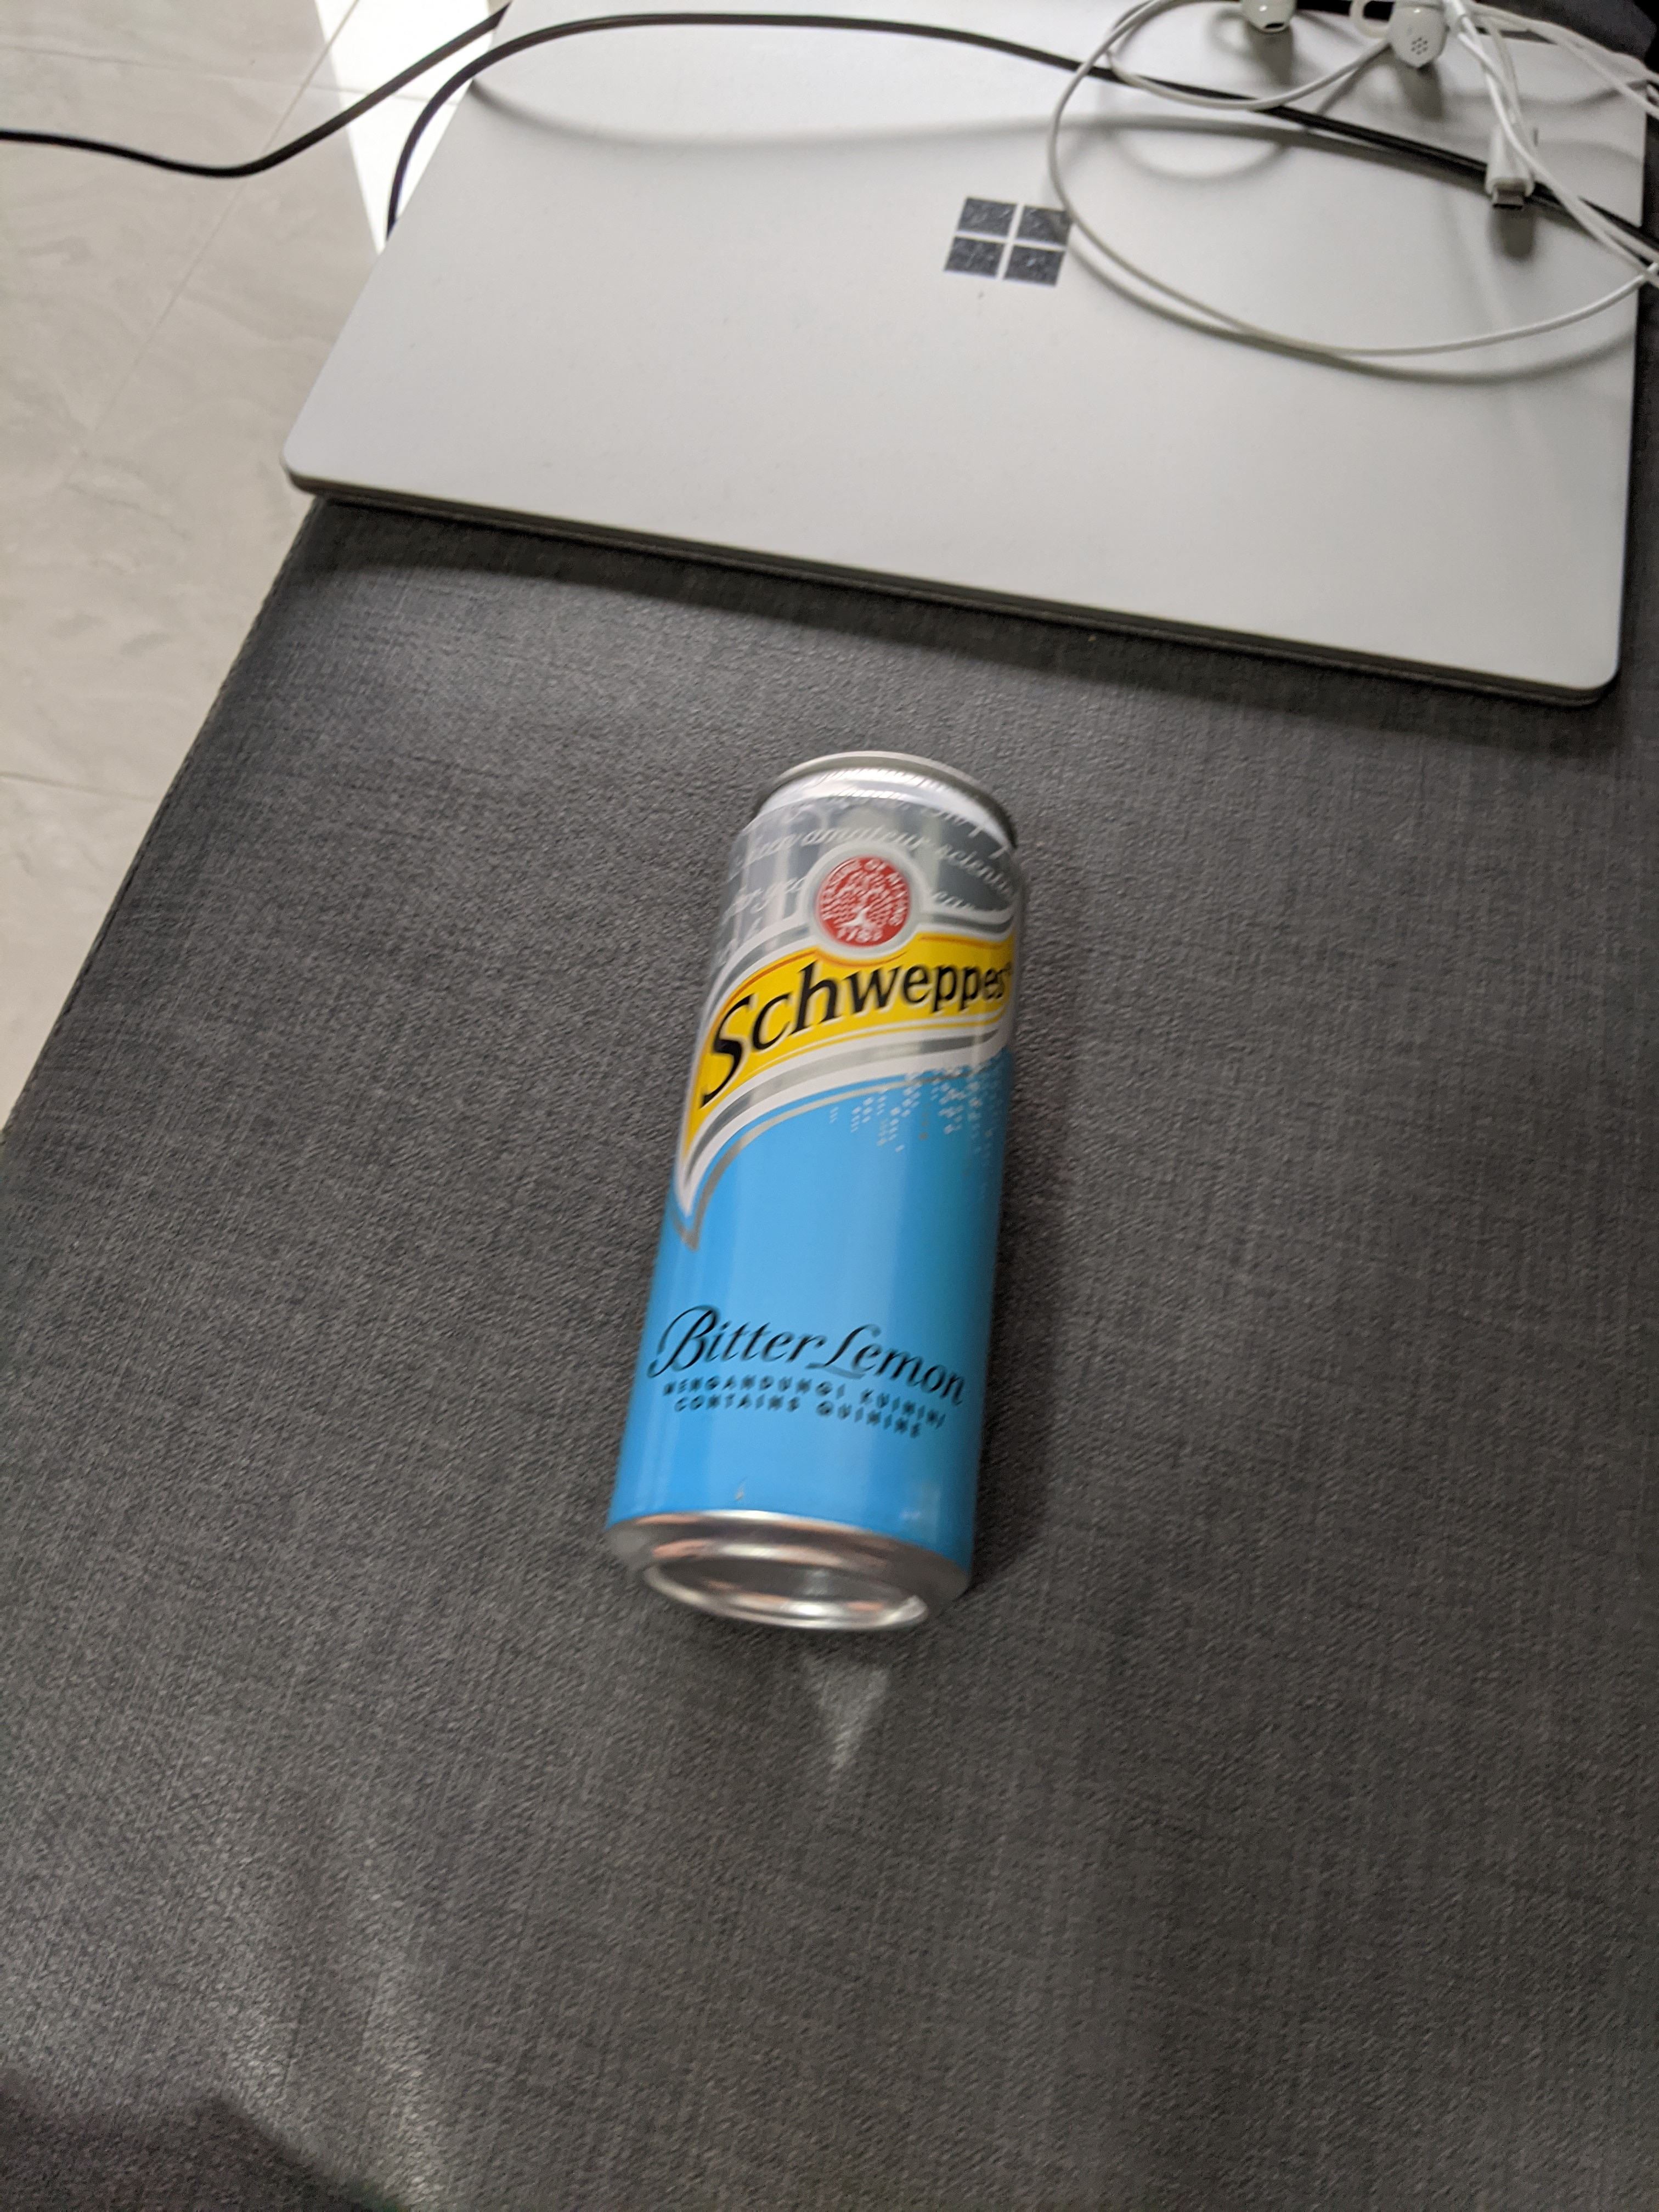schweppes drink can bitter lemon: (582, 716, 1054, 1676)
